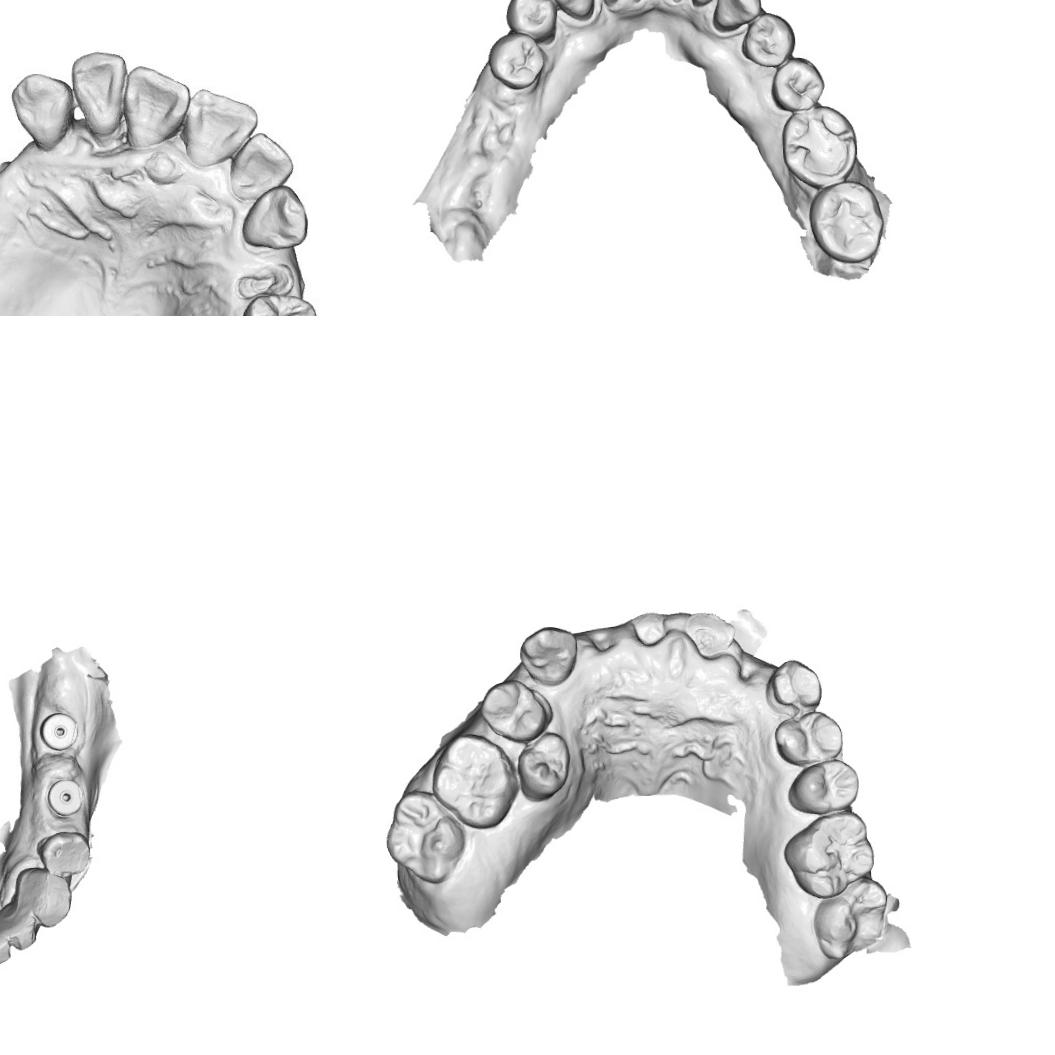canine: (9, 70, 76, 152), (239, 182, 311, 252), (516, 623, 580, 689), (16, 865, 75, 930), (764, 656, 823, 718), (710, 0, 765, 32), (548, 0, 599, 22)
implant: (37, 709, 81, 753), (45, 776, 86, 818)
incisor: (181, 85, 261, 169), (119, 62, 194, 150), (69, 50, 130, 138), (225, 129, 296, 203), (0, 902, 42, 951), (0, 914, 12, 969)
molar: (428, 729, 518, 831), (380, 784, 466, 887), (780, 810, 878, 900), (810, 874, 895, 963), (779, 102, 860, 192), (806, 180, 888, 266)
premolar: (477, 676, 556, 746), (786, 758, 862, 818), (772, 708, 847, 768), (514, 730, 572, 804), (485, 30, 551, 92), (767, 53, 827, 112), (739, 10, 796, 70), (35, 828, 92, 880), (503, 0, 560, 43), (237, 289, 318, 316)
